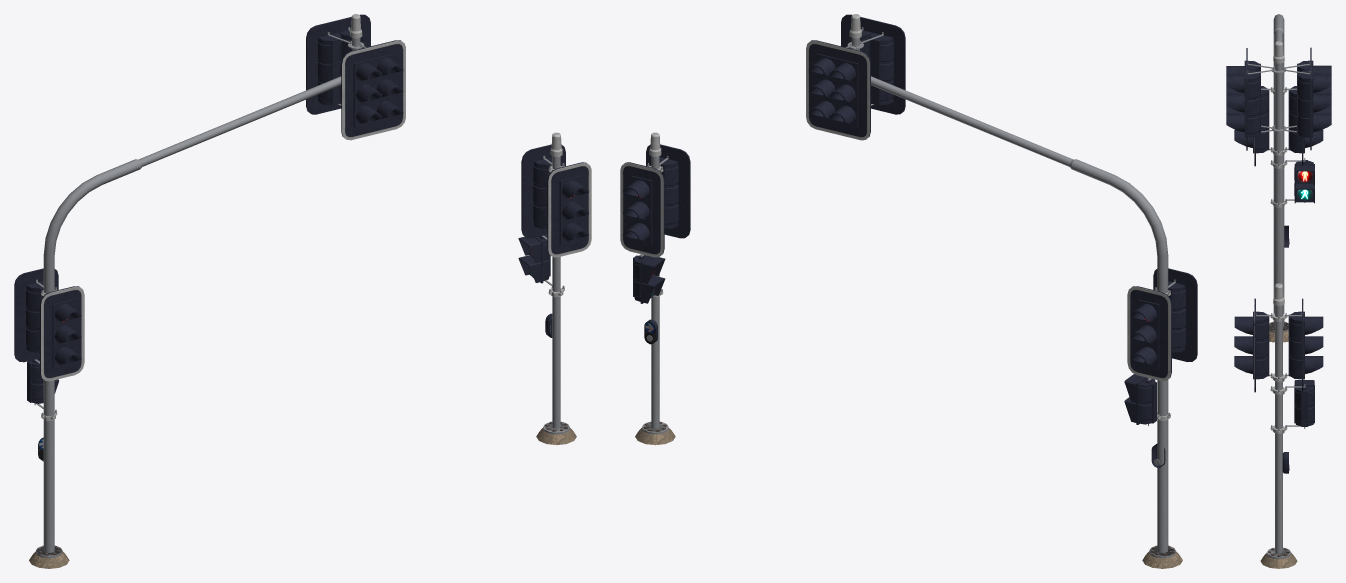
Rendered from scene.web.gltf.
The picture shows the model from 3 angles, left to right: view 1: azimuth 30°, elevation 25°; view 2: azimuth 150°, elevation 25°; view 3: azimuth 270°, elevation 25°; orthographic projection. The views are drawn at different scales.
Parts seen in each view (by area): view 1: pole_suspended_7, traffic_light_head_6AL_2, traffic_light_head_3A.001_9, traffic_light_head_3A_0, traffic_light_head_6AR_10, pole_small_1, traffic_light_head_3A.002_8, traffic_light_head_3A.003_11, ped_light_5, ped_light.001_3; view 2: pole_suspended_7, traffic_light_head_6AR_10, traffic_light_head_3A.002_8, traffic_light_head_3A.003_11, traffic_light_head_6AL_2, traffic_light_head_3A.001_9, traffic_light_head_3A_0, pole_small_1, ped_light.001_3, ped_light_5; view 3: pole_suspended_7, pole_small_1, traffic_light_head_6AR_10, traffic_light_head_6AL_2, traffic_light_head_3A.001_9, traffic_light_head_3A.002_8, traffic_light_head_3A_0, traffic_light_head_3A.003_11, ped_light_5, ped_light.001_3.
Boxes of the visible parts, <box> form: pole_suspended_7: <box>29,14,364,568</box>; traffic_light_head_6AL_2: <box>341,40,405,140</box>; traffic_light_head_3A.001_9: <box>547,162,591,257</box>; traffic_light_head_3A_0: <box>40,286,84,381</box>; traffic_light_head_6AR_10: <box>306,14,370,114</box>; pole_small_1: <box>536,132,576,445</box>; traffic_light_head_3A.002_8: <box>521,144,565,238</box>; traffic_light_head_3A.003_11: <box>14,268,58,362</box>; ped_light_5: <box>518,235,550,283</box>; ped_light.001_3: <box>27,358,58,405</box>; pole_suspended_7: <box>847,14,1182,568</box>; traffic_light_head_6AR_10: <box>806,40,870,140</box>; traffic_light_head_3A.002_8: <box>620,162,664,257</box>; traffic_light_head_3A.003_11: <box>1127,286,1171,381</box>; traffic_light_head_6AL_2: <box>841,14,905,114</box>; traffic_light_head_3A.001_9: <box>646,144,690,238</box>; traffic_light_head_3A_0: <box>1153,268,1197,361</box>; pole_small_1: <box>635,132,675,445</box>; ped_light.001_3: <box>1124,374,1156,425</box>; ped_light_5: <box>633,253,665,303</box>; pole_suspended_7: <box>1269,14,1289,342</box>; pole_small_1: <box>1260,283,1297,568</box>; traffic_light_head_6AR_10: <box>1282,47,1331,150</box>; traffic_light_head_6AL_2: <box>1226,48,1275,150</box>; traffic_light_head_3A.001_9: <box>1234,298,1272,392</box>; traffic_light_head_3A.002_8: <box>1285,298,1323,392</box>; traffic_light_head_3A_0: <box>1234,86,1272,166</box>; traffic_light_head_3A.003_11: <box>1285,86,1323,166</box>; ped_light_5: <box>1294,380,1314,428</box>; ped_light.001_3: <box>1294,158,1314,203</box>.
Size of the model in its own units: 40.7 by 33.19 by 7.39.
Materials: 1 (1 with a texture image).
